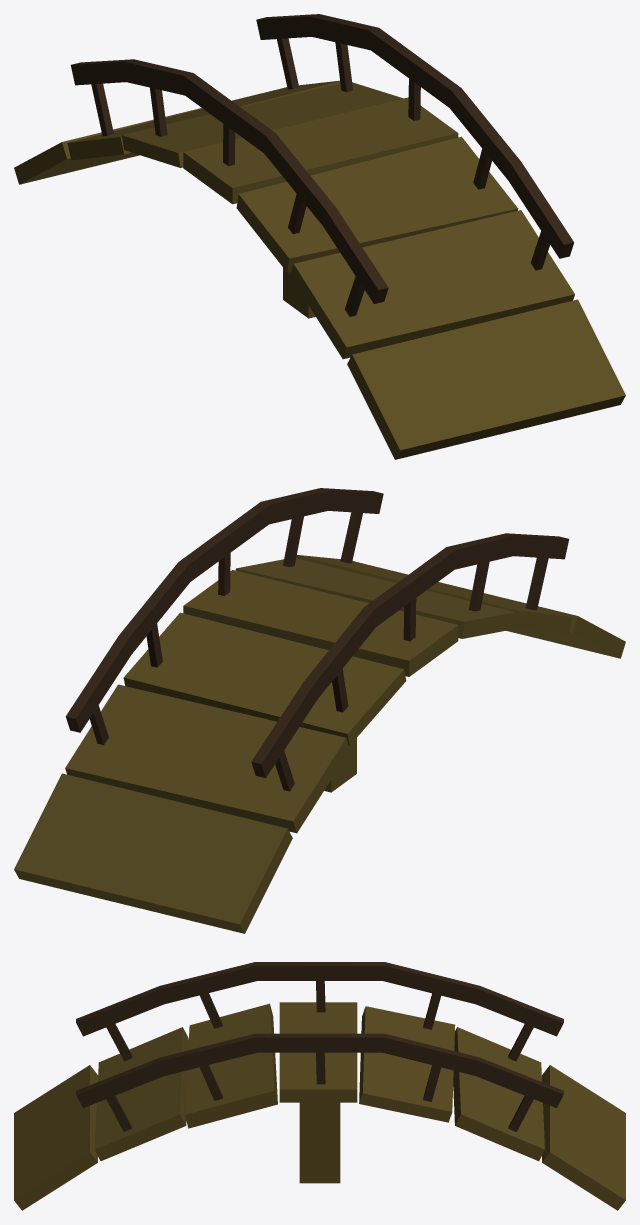
The model's file is bridge.fbx.
The picture shows the model from 3 angles, top to bottom: view 1: azimuth 30°, elevation 25°; view 2: azimuth 150°, elevation 25°; view 3: azimuth 270°, elevation 25°; orthographic projection. The views are drawn at different scales.
Visible parts, largest first — view 1: Box010; view 2: Box010; view 3: Box010.
Part boxes in pixels (left/top/right/bottom): Box010: left=14, top=14, right=625, bottom=459; Box010: left=14, top=488, right=625, bottom=933; Box010: left=14, top=962, right=625, bottom=1210.
Bounding box in the file's own units: 11.56 × 10.8 × 34.24.
